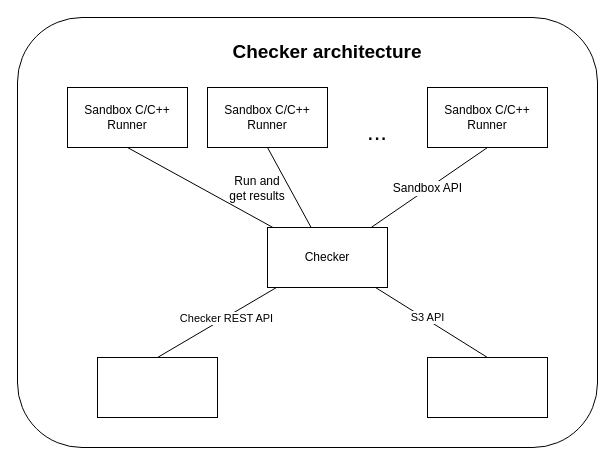
This 615x465 diagram has some shape labels left out. Here are the shapes that lost their labels. From the top down, the centre of each, then its label:
the point at 157,387: Web API
the point at 487,387: Problems File storage
